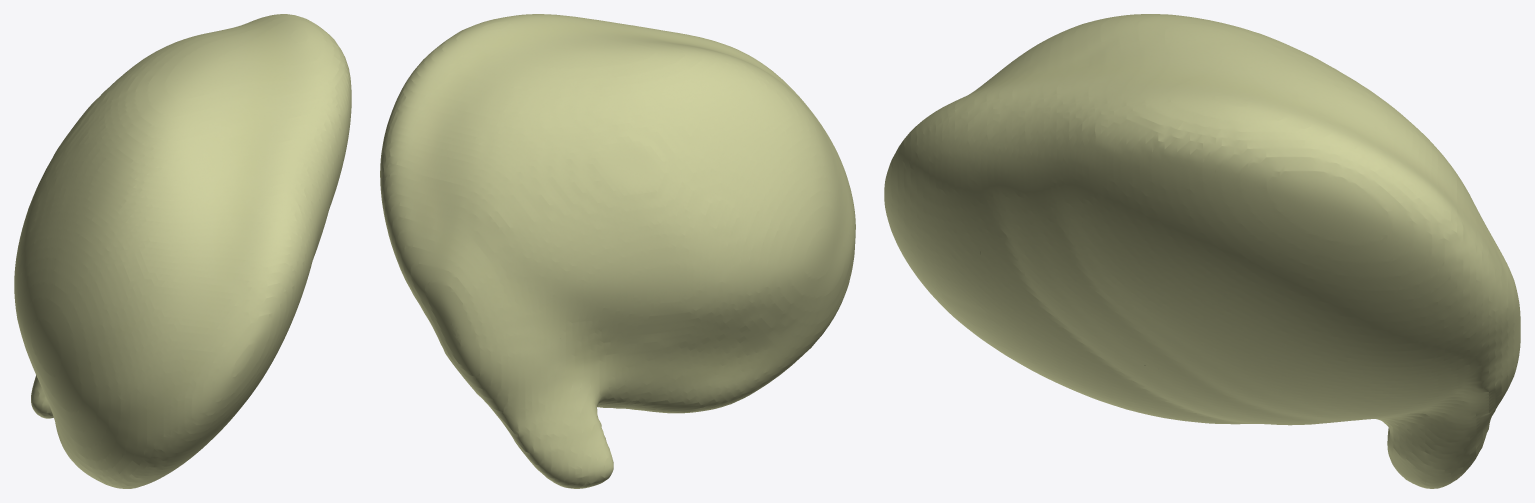
File: cissy-left.gltf
The picture shows the model from 3 angles, left to right: view 1: azimuth 30°, elevation 25°; view 2: azimuth 150°, elevation 25°; view 3: azimuth 270°, elevation 25°; orthographic projection. The views are drawn at different scales.
Visible parts, largest first — view 1: Layer_7; view 2: Layer_7; view 3: Layer_7.
Boxes of the visible parts, x1,y1,x2,y2 form: Layer_7: (14,14,351,488); Layer_7: (380,14,855,488); Layer_7: (884,14,1520,488).
Bounding box in the file's own units: 59.52 × 63.19 × 75.13.
1 material, 1 textured.
